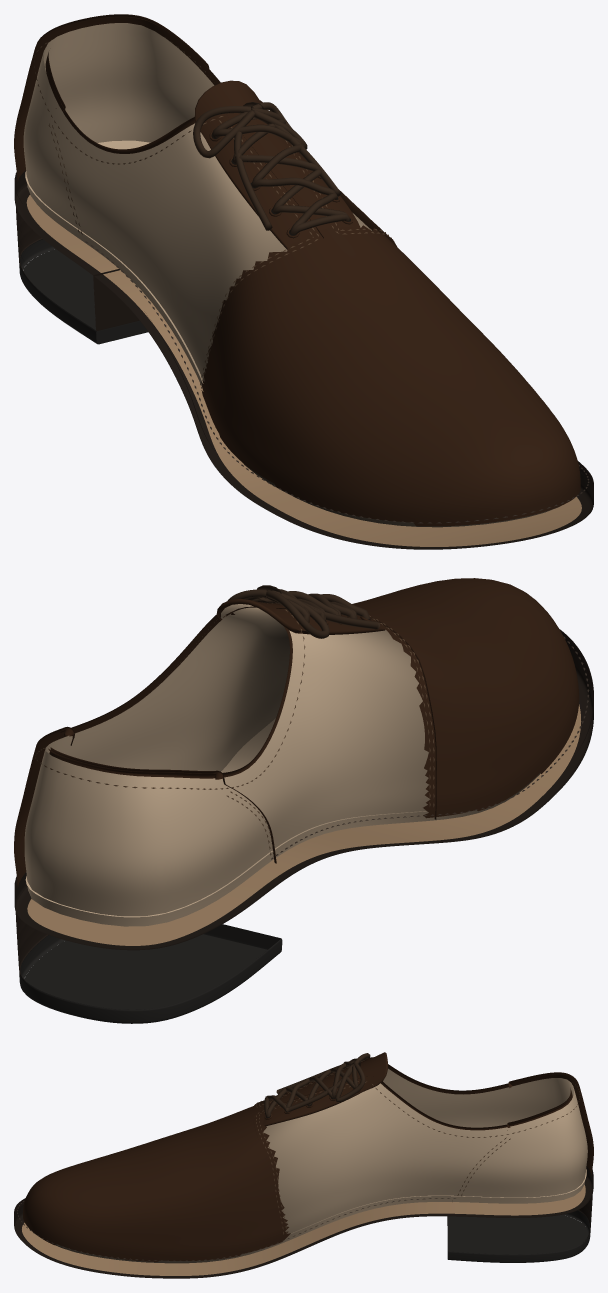
File: men_dress_b.glb
3 views of the same model, one above another, from view 1: azimuth 30°, elevation 25°; view 2: azimuth 150°, elevation 25°; view 3: azimuth 270°, elevation 25° (orthographic). The views are drawn at different scales.
Parts seen in each view (by area): view 1: leather, lining, sole_bottom, lace, sole_edge, toplift, heel, thread; view 2: lining, leather, toplift, sole_bottom, sole_edge, lace, thread, heel; view 3: lining, leather, sole_bottom, toplift, sole_edge, lace, thread.
Boxes of the visible parts, box(x1,y1,x2,y2) form: leather: box(14, 14, 580, 526); lining: box(23, 23, 560, 527); sole_bottom: box(26, 195, 581, 546); lace: box(193, 102, 349, 234); sole_edge: box(14, 172, 593, 549); toplift: box(19, 239, 147, 344); heel: box(15, 185, 139, 330); thread: box(33, 37, 394, 389); lining: box(24, 604, 540, 926); leather: box(14, 578, 579, 887); toplift: box(19, 924, 282, 1023); sole_bottom: box(27, 704, 581, 945); sole_edge: box(14, 646, 593, 950); lace: box(227, 585, 380, 638); thread: box(35, 603, 434, 855); heel: box(15, 886, 47, 980); lining: box(55, 1068, 587, 1263); leather: box(23, 1052, 593, 1261); sole_bottom: box(22, 1185, 585, 1275); toplift: box(447, 1210, 590, 1262); sole_edge: box(14, 1166, 593, 1278); lace: box(264, 1053, 370, 1118); thread: box(256, 1059, 580, 1234).
Size of the model in its own units: 101 by 102 by 297.
